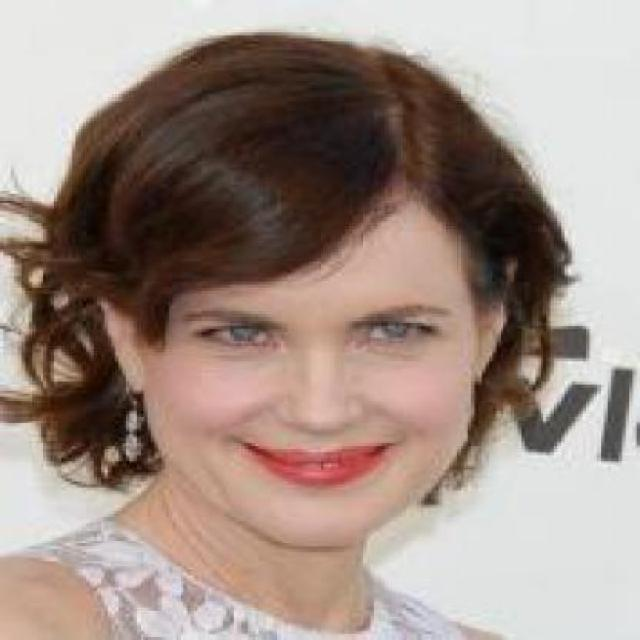closed-mouth: (238, 438, 392, 489)
